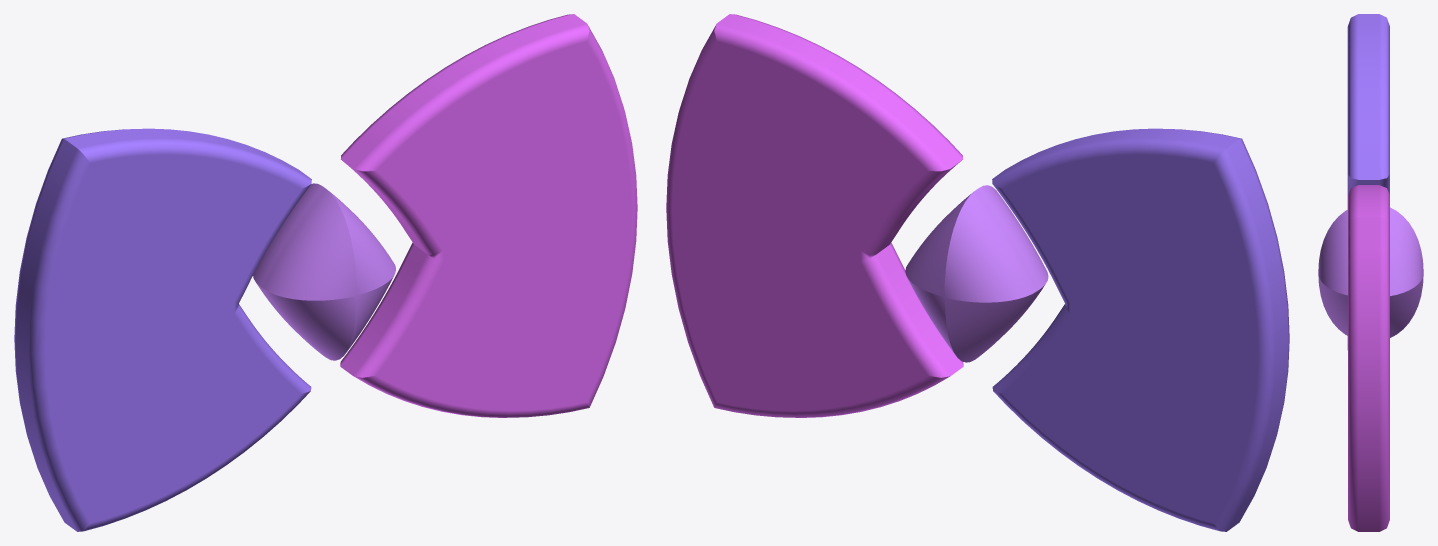
File: bowtie.glb
3 renders of one model, left to right at view 1: azimuth 30°, elevation 25°; view 2: azimuth 150°, elevation 25°; view 3: azimuth 270°, elevation 25°, orthographic. The views are drawn at different scales.
Parts seen in each view (by area): view 1: Shape 6, Shape 7, Shape; view 2: Shape 7, Shape 6, Shape; view 3: Shape 6, Shape 7, Shape.
Part boxes in pixels (<box>): Shape 6: <box>340,14,637,417</box>; Shape 7: <box>14,128,311,531</box>; Shape: <box>253,183,395,360</box>; Shape 7: <box>992,128,1289,531</box>; Shape 6: <box>666,14,963,417</box>; Shape: <box>905,185,1048,362</box>; Shape 6: <box>1348,185,1389,531</box>; Shape 7: <box>1347,14,1389,349</box>; Shape: <box>1318,207,1423,337</box>.
Size of the model in its own units: 1.09 by 0.659 by 0.2.
